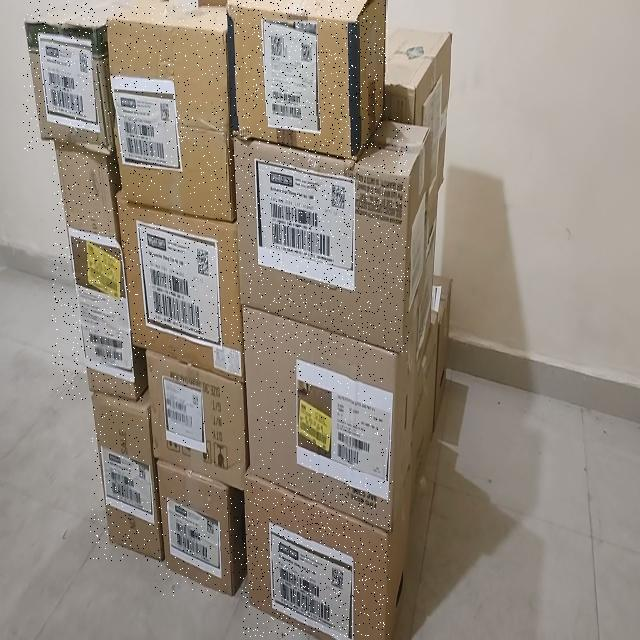BoxFace: (230, 116, 410, 355), (241, 300, 393, 534), (106, 2, 235, 222), (225, 0, 388, 160), (52, 137, 147, 400), (115, 188, 245, 380), (243, 473, 390, 638), (144, 346, 246, 490), (23, 0, 107, 154), (90, 387, 164, 561), (155, 458, 247, 596)
